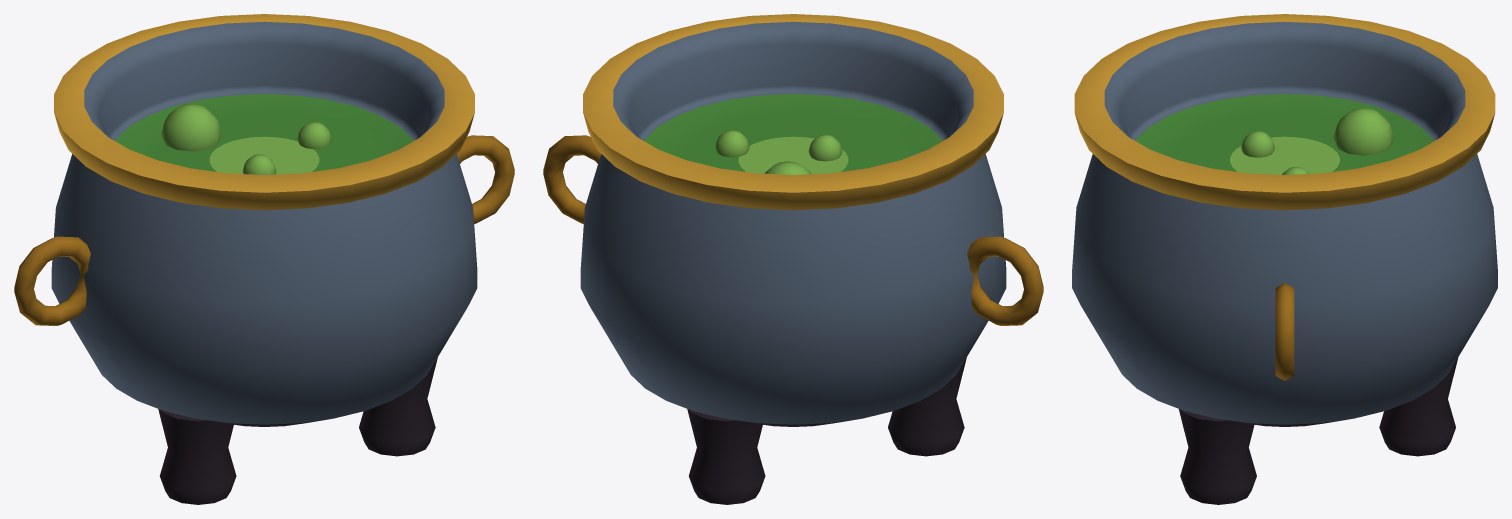
The model's file is Cauldron_02.glb.
3 renders of one model, left to right at view 1: azimuth 30°, elevation 25°; view 2: azimuth 150°, elevation 25°; view 3: azimuth 270°, elevation 25°, orthographic.
Visible parts, largest first — view 1: Cauldron_02; view 2: Cauldron_02; view 3: Cauldron_02.
Part boxes in pixels (box(x1,y1,x2,y2)): Cauldron_02: box(14, 14, 514, 504); Cauldron_02: box(543, 14, 1043, 504); Cauldron_02: box(1072, 14, 1497, 504).
Bounding box in the file's own units: 4.2 × 2.76 × 3.1.
